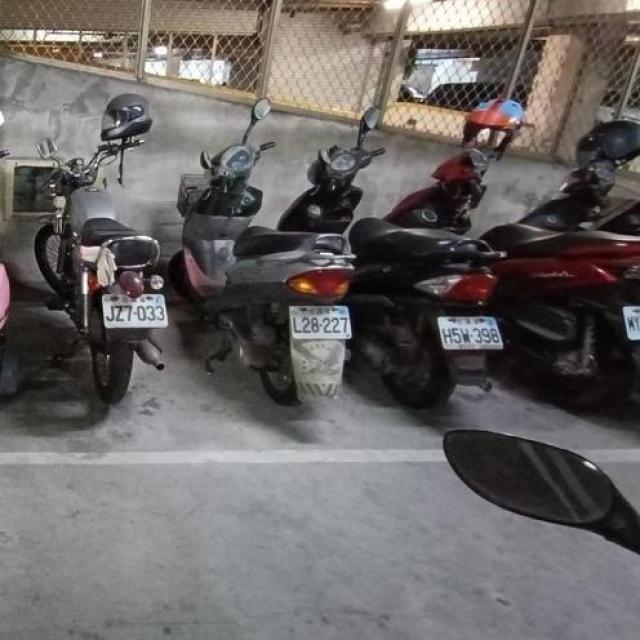W: (431, 303, 507, 359), (99, 286, 169, 332), (286, 297, 354, 343), (617, 294, 640, 347)
